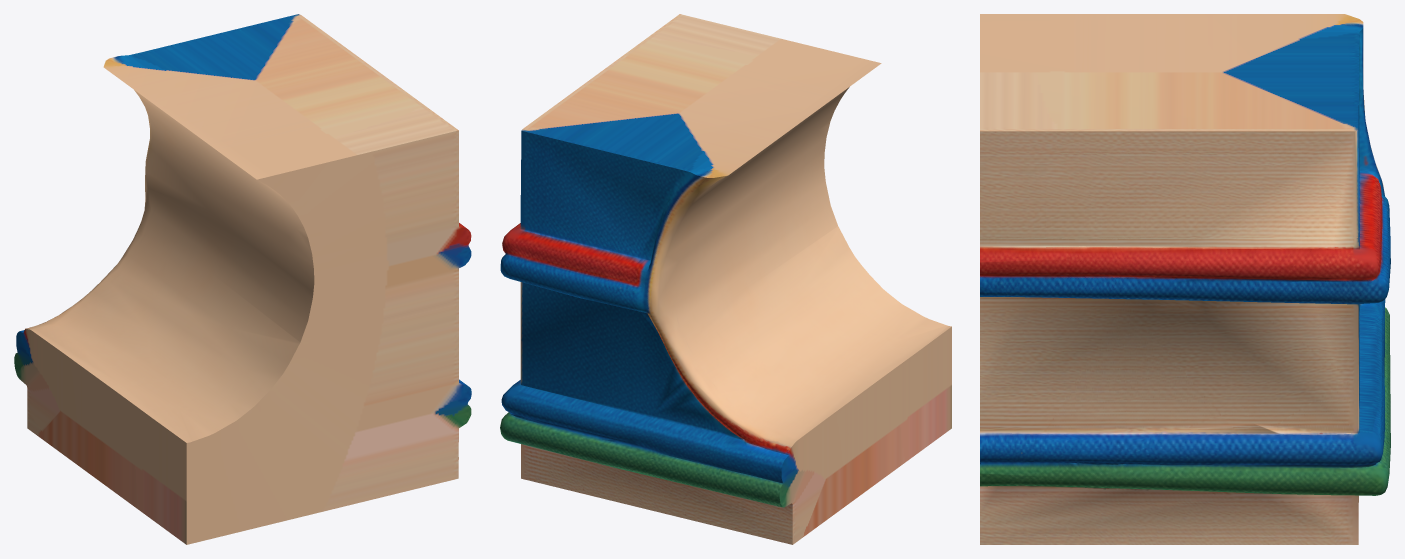
Rendered from 8-upper-walls-back-right.fbx.
The picture shows the model from 3 angles, left to right: view 1: azimuth 30°, elevation 25°; view 2: azimuth 150°, elevation 25°; view 3: azimuth 270°, elevation 25°; orthographic projection. The views are drawn at different scales.
Visible parts, largest first — view 1: upper-walls-back-right; view 2: upper-walls-back-right; view 3: upper-walls-back-right.
Part boxes in pixels (left/top/right/bottom): upper-walls-back-right: left=14, top=14, right=471, bottom=544; upper-walls-back-right: left=500, top=14, right=951, bottom=544; upper-walls-back-right: left=980, top=14, right=1390, bottom=544.
Bounding box in the file's own units: 6037 × 7017 × 6314.
1 material, 1 textured.
